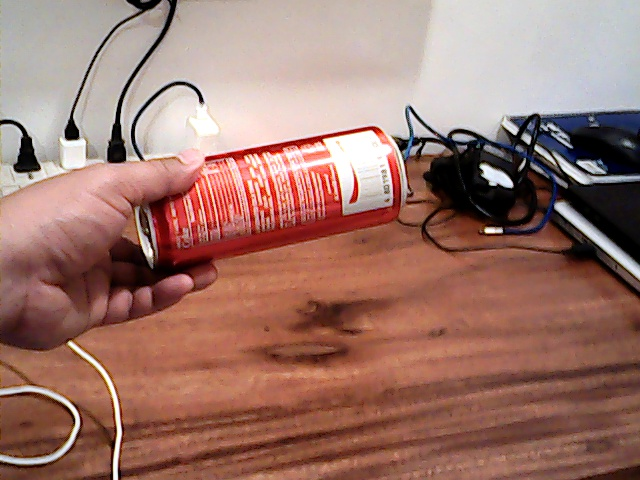Cola: (133, 115, 422, 257)
